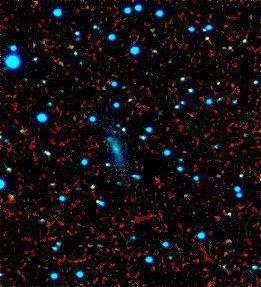star: (191, 23, 221, 53)
